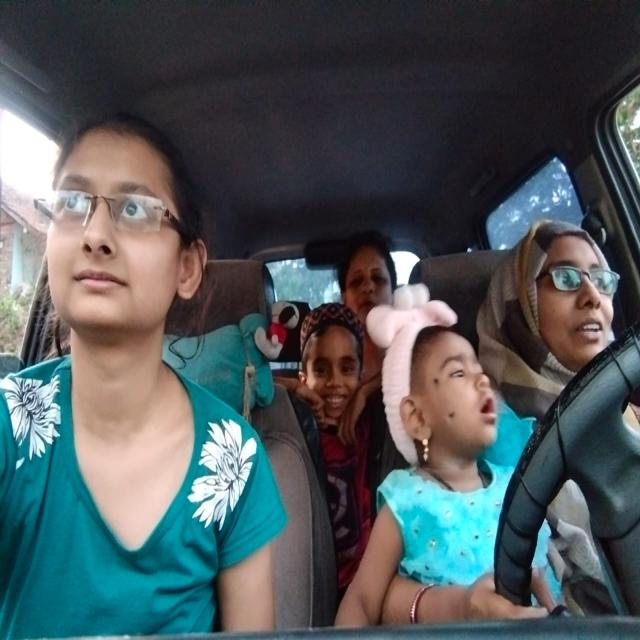child: (375, 285, 504, 492)
person: (36, 100, 212, 368), (506, 212, 625, 383), (298, 300, 367, 418), (339, 220, 401, 333)
